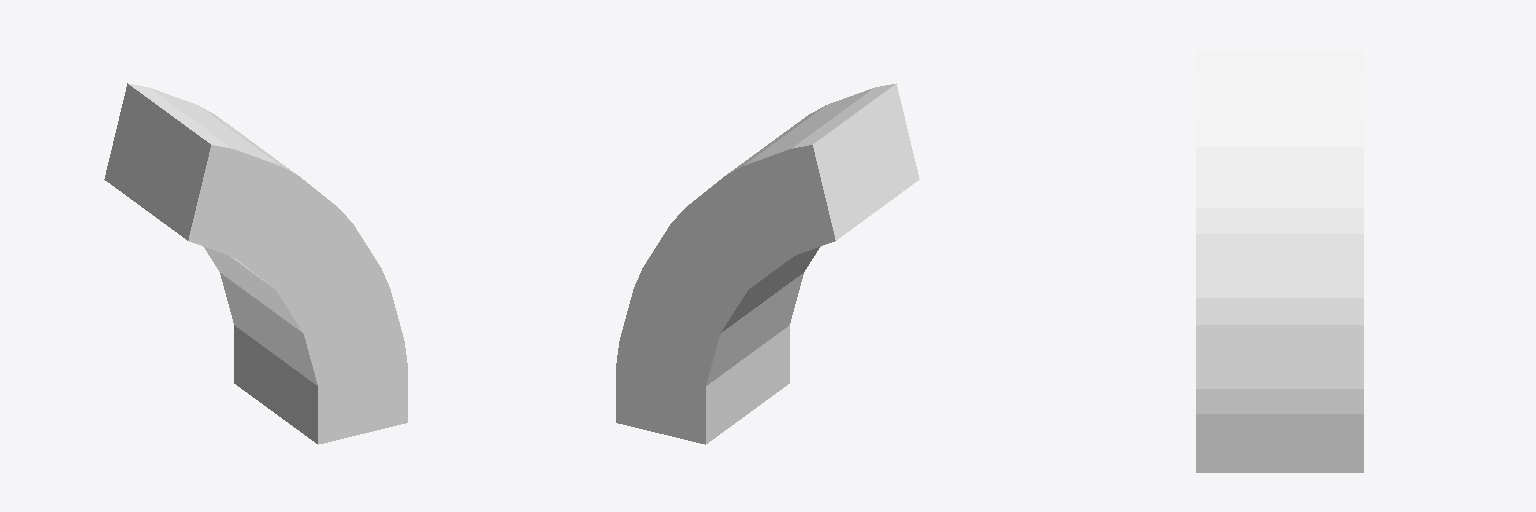
Rendered from smooth_round_arch_3.obj.
3 views of the same model, side by side, from view 1: azimuth 30°, elevation 25°; view 2: azimuth 150°, elevation 25°; view 3: azimuth 270°, elevation 25° (orthographic).
Visible parts, largest first — view 1: cube.023; view 2: cube.023; view 3: cube.023.
Part boxes in pixels (left/top/right/bottom): cube.023: left=104, top=83, right=407, bottom=444; cube.023: left=616, top=83, right=919, bottom=444; cube.023: left=1196, top=51, right=1363, bottom=472.
Size of the model in its own units: 1.55 by 2.2 by 1.02.